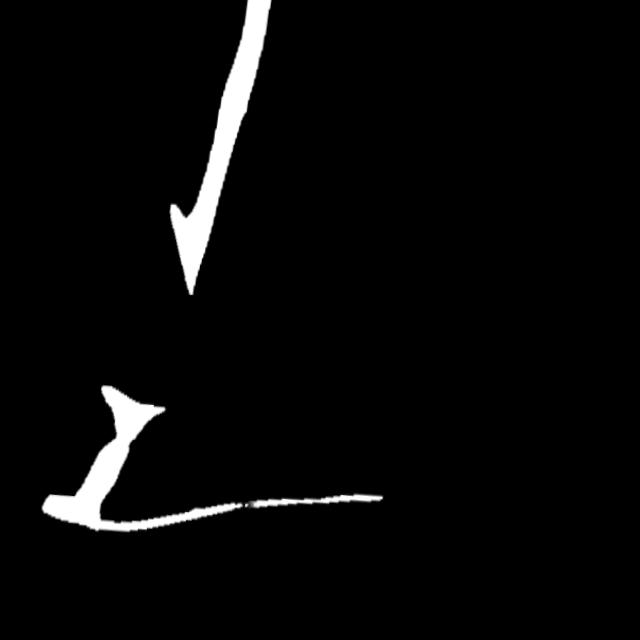inf: (232, 496, 261, 522)
